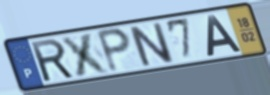7: (164, 16, 194, 62)
A: (206, 14, 243, 59)
N: (126, 21, 177, 69)
P: (94, 27, 133, 76)
R: (28, 37, 77, 84)
X: (58, 31, 113, 79)
